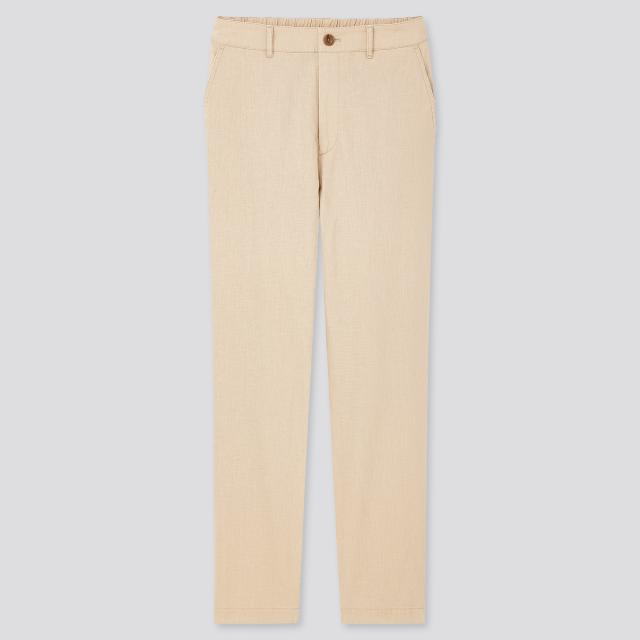long-pants: (204, 15, 438, 631)
